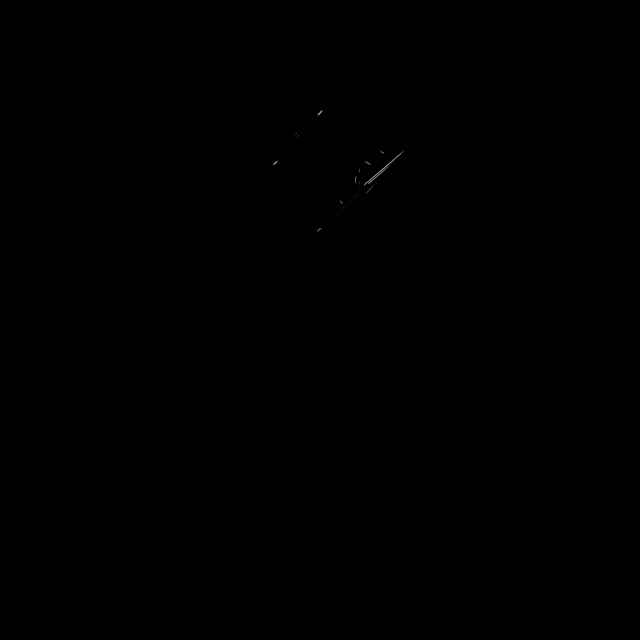medium_debris: (259, 81, 409, 240)
